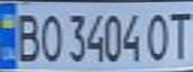0: (103, 10, 124, 63)
3: (63, 9, 87, 63)
4: (121, 9, 145, 63), (84, 9, 106, 63)
B: (9, 9, 42, 63)
O: (36, 9, 63, 63), (145, 8, 172, 62)
T: (166, 7, 193, 61)
